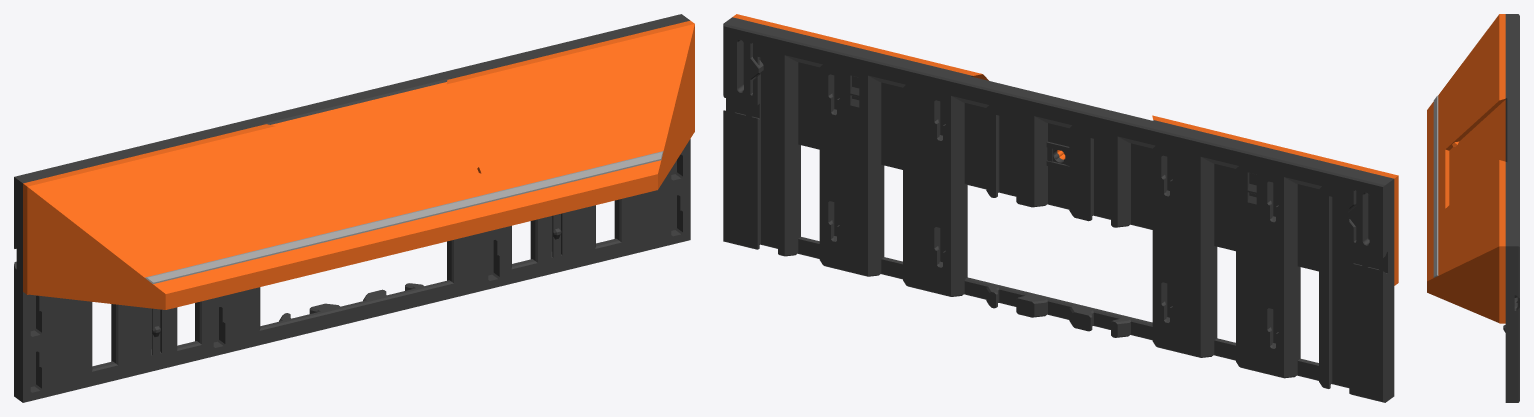
Rendered from Faceplate_ClassicPro_2W-1H.lib.glb.
3 renders of one model, left to right at view 1: azimuth 30°, elevation 25°; view 2: azimuth 150°, elevation 25°; view 3: azimuth 270°, elevation 25°, orthographic. The views are drawn at different scales.
Parts seen in each view (by area): view 1: Faceplate_ClassicPro_2W-1H; view 2: Faceplate_ClassicPro_2W-1H; view 3: Faceplate_ClassicPro_2W-1H.
Part boxes in pixels (left/top/right/bottom): Faceplate_ClassicPro_2W-1H: left=14, top=14, right=694, bottom=402; Faceplate_ClassicPro_2W-1H: left=723, top=14, right=1398, bottom=402; Faceplate_ClassicPro_2W-1H: left=1427, top=14, right=1519, bottom=402.
Size of the model in its own units: 175 by 54.99 by 29.5.
